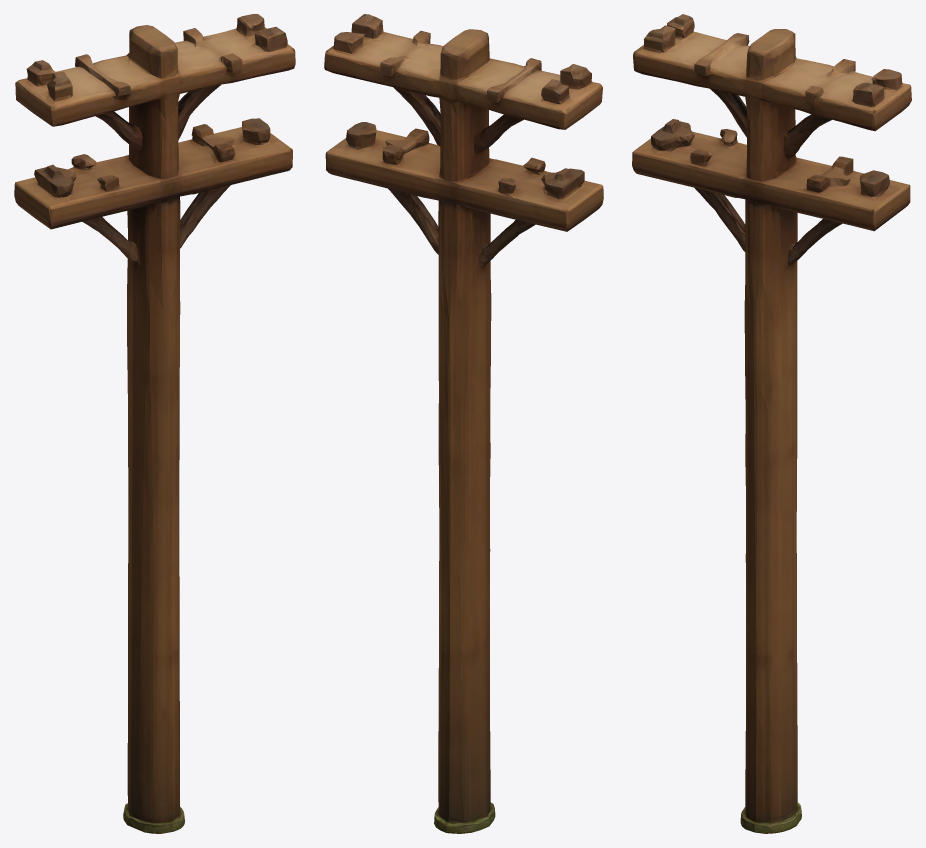
The model's file is power line.glb.
3 views of the same model, side by side, from view 1: azimuth 30°, elevation 25°; view 2: azimuth 150°, elevation 25°; view 3: azimuth 330°, elevation 25° (orthographic).
Visible parts, largest first — view 1: world; view 2: world; view 3: world.
Boxes of the visible parts, <box> form: world: <box>14,14,295,833</box>; world: <box>324,14,603,833</box>; world: <box>632,14,911,833</box>.
Size of the model in its own units: 0.3295 by 1 by 0.1047.
Materials: 1 (1 with a texture image).
